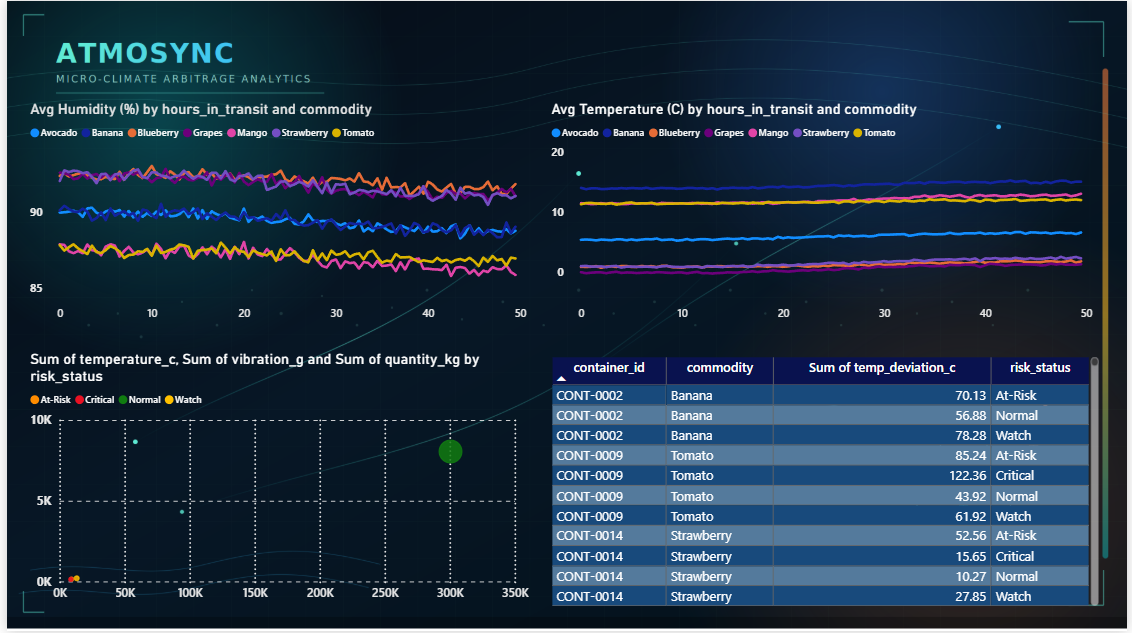

This screenshot's page, from the dashboard's own definition file:
{"tool":"powerbi","page":{"name":"Environmental Monitoring","canvas":[1280,720],"ordinal":1},"visuals":[{"type":"lineChart","fields":{"Category":["cleaned_dataset.hours_in_transit"],"Y":["cleaned_dataset.Avg Temperature (C)"],"Series":["cleaned_dataset.commodity"]},"box":[617.4,112.8,631.4,261.6],"z":0,"group":"g1"},{"type":"lineChart","fields":{"Category":["cleaned_dataset.hours_in_transit"],"Series":["cleaned_dataset.commodity"],"Y":["cleaned_dataset.Avg Humidity (%)"]},"box":[20.9,112.8,580.2,261.6],"z":1000,"group":"g1"},{"type":"scatterChart","fields":{"X":["Sum(cleaned_dataset.temperature_c)"],"Y":["Sum(cleaned_dataset.vibration_g)"],"Size":["Sum(cleaned_dataset.quantity_kg)"],"Series":["cleaned_dataset.risk_status"]},"box":[20.9,398.9,580.2,296.5],"z":2000,"group":"g1"},{"type":"tableEx","fields":{"Values":["cleaned_dataset.container_id","cleaned_dataset.commodity","Sum(cleaned_dataset.temp_deviation_c)","cleaned_dataset.risk_status"]},"box":[617.5,399.3,635.3,296.4],"z":3000,"group":"g1"},{"type":"group","id":"g1","title":"Group 1","box":[20.9,27.6,1231.9,668.1],"z":3002},{"type":"actionButton","box":[1216.1,27.6,34.5,31],"z":4000,"group":"g1"}]}

Visuals, with their boxes in screenshot pixels (x1, y1, x2, y2), scaled from the page's 1280x720 canvas onto the 1132x633 screenshot:
lineChart - cleaned_dataset.hours_in_transit x cleaned_dataset.Avg Temperature (C): rect(546, 99, 1104, 329)
lineChart - cleaned_dataset.hours_in_transit x cleaned_dataset.commodity: rect(18, 99, 532, 329)
scatterChart - Sum(cleaned_dataset.temperature_c) x Sum(cleaned_dataset.vibration_g): rect(18, 351, 532, 611)
tableEx - cleaned_dataset.container_id x cleaned_dataset.commodity: rect(546, 351, 1108, 612)
"Group 1" group: rect(18, 24, 1108, 612)
actionButton: rect(1075, 24, 1106, 52)
